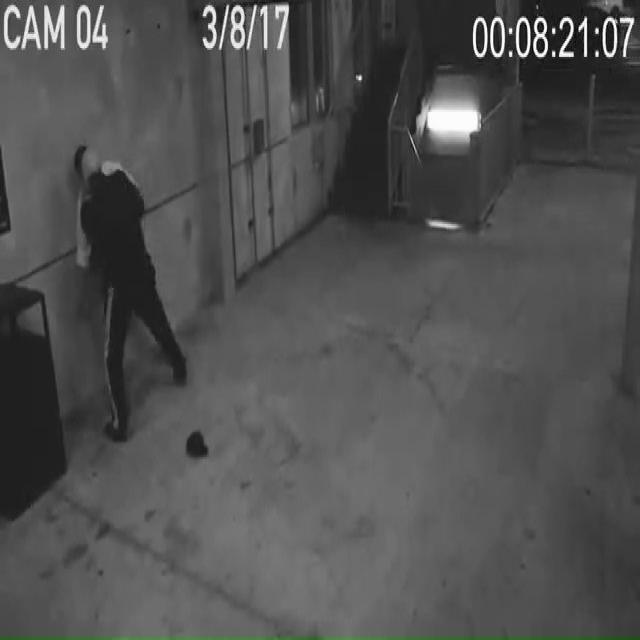fight: (70, 133, 188, 446)
